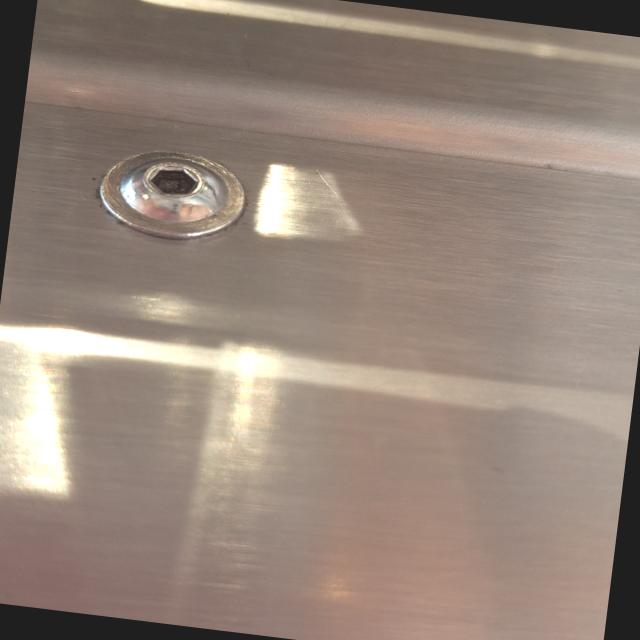Hex Socket Allen: (54, 125, 278, 264)
